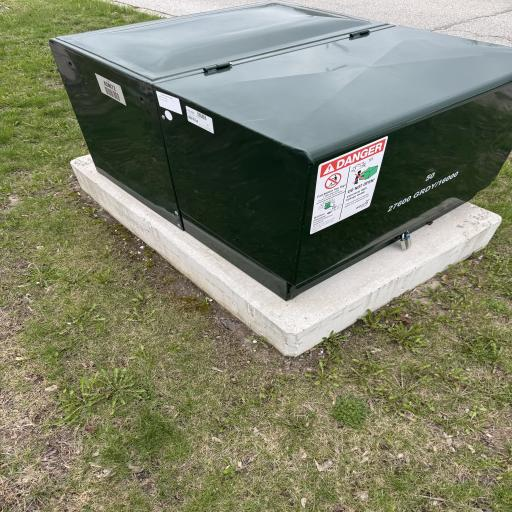Electrical Box: (49, 0, 512, 298)
